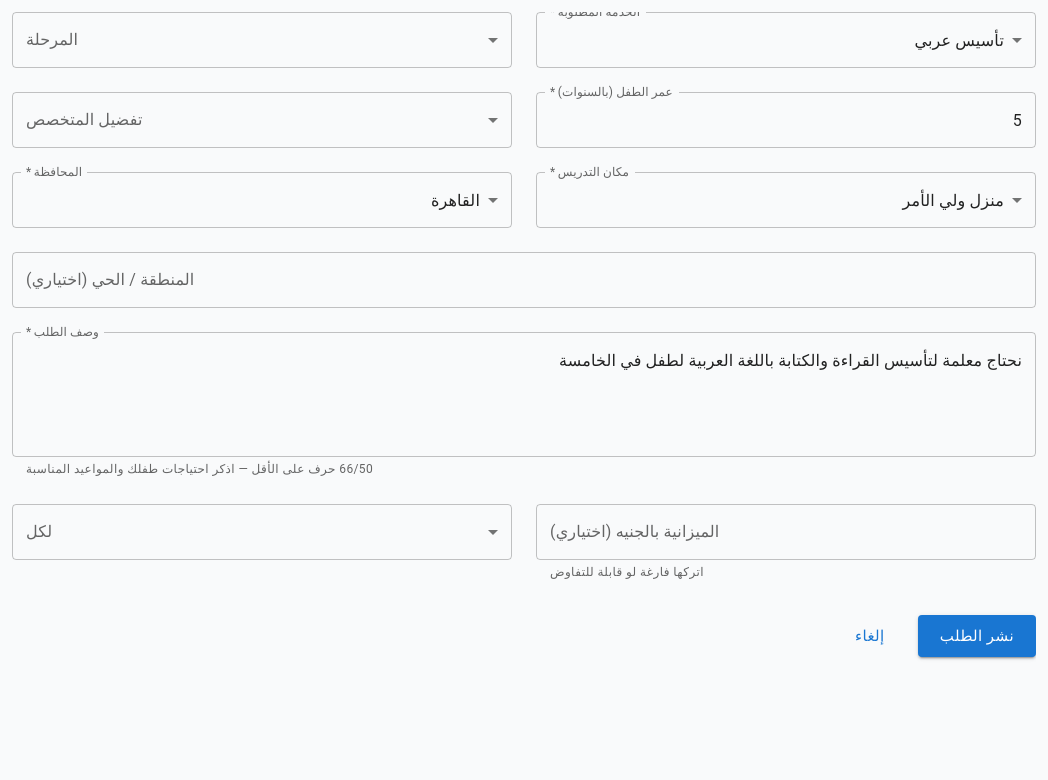
Test: RequestForm › asks for a pricing unit once a budget is typed
The width and height of the screenshot is (1048, 780).
Type "150" into the number field labelled "الميزانية بالجنيه (اختياري)" at point(786, 532), box [536,504,1036,560]
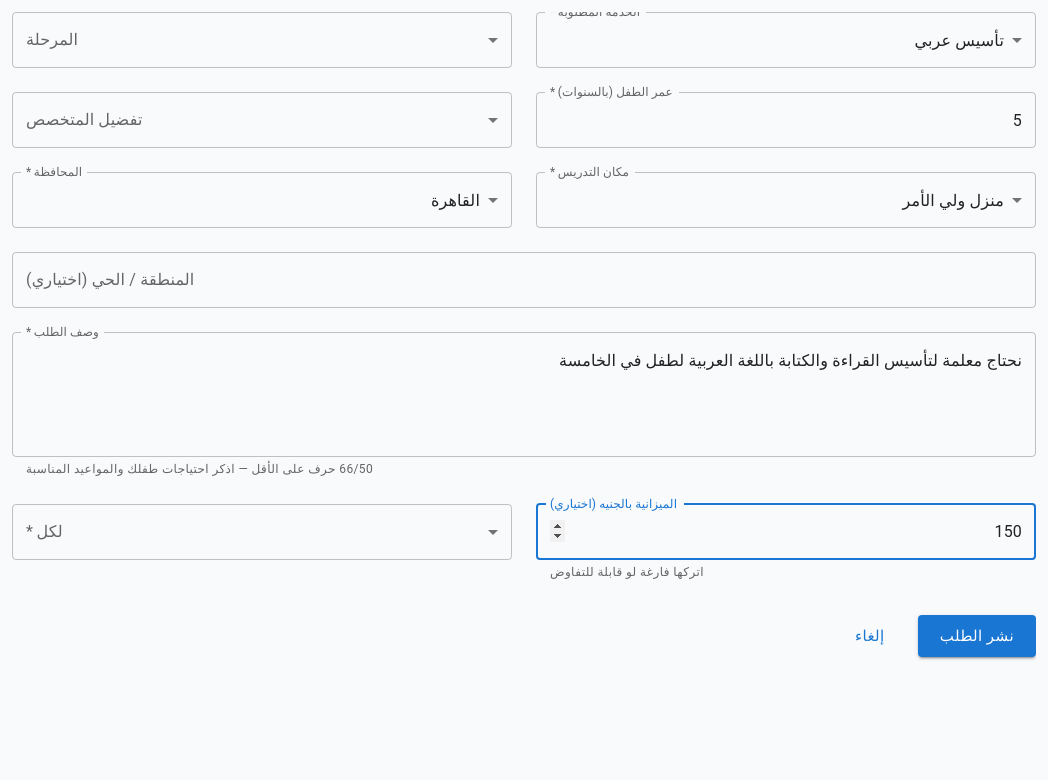
Click the button "نشر الطلب" at point(977, 636), box [918,615,1036,657]
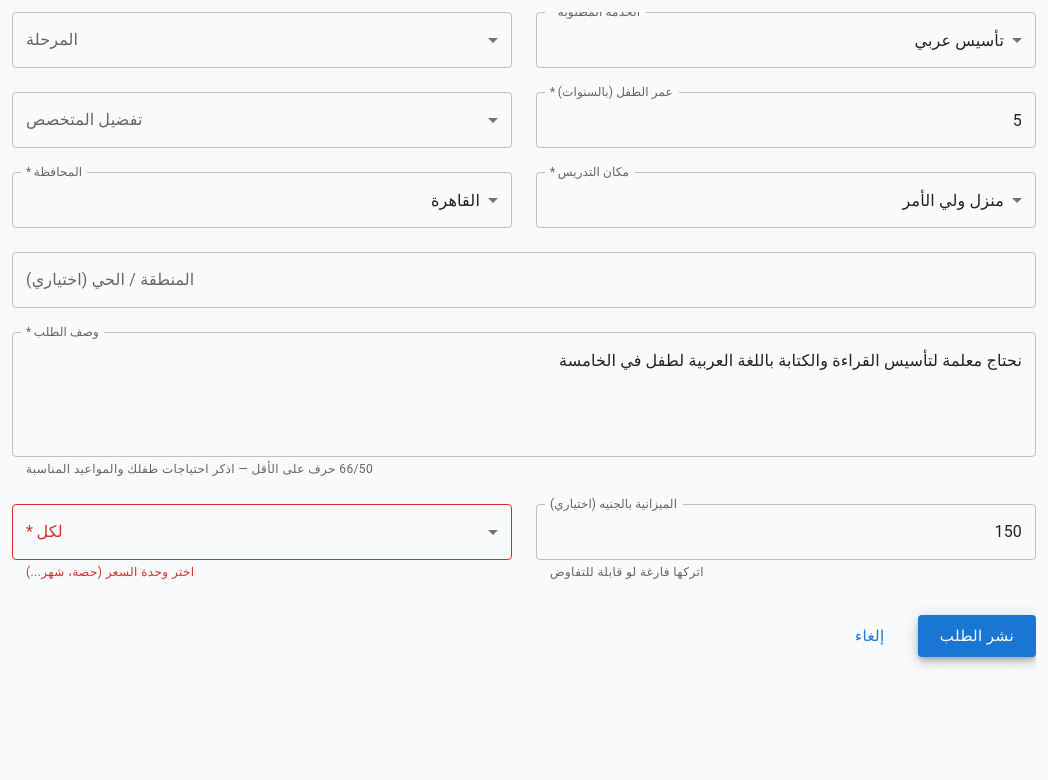
Result: the text "اختر وحدة السعر (حصة، شهر...)" is shown at [26,565,194,579]
